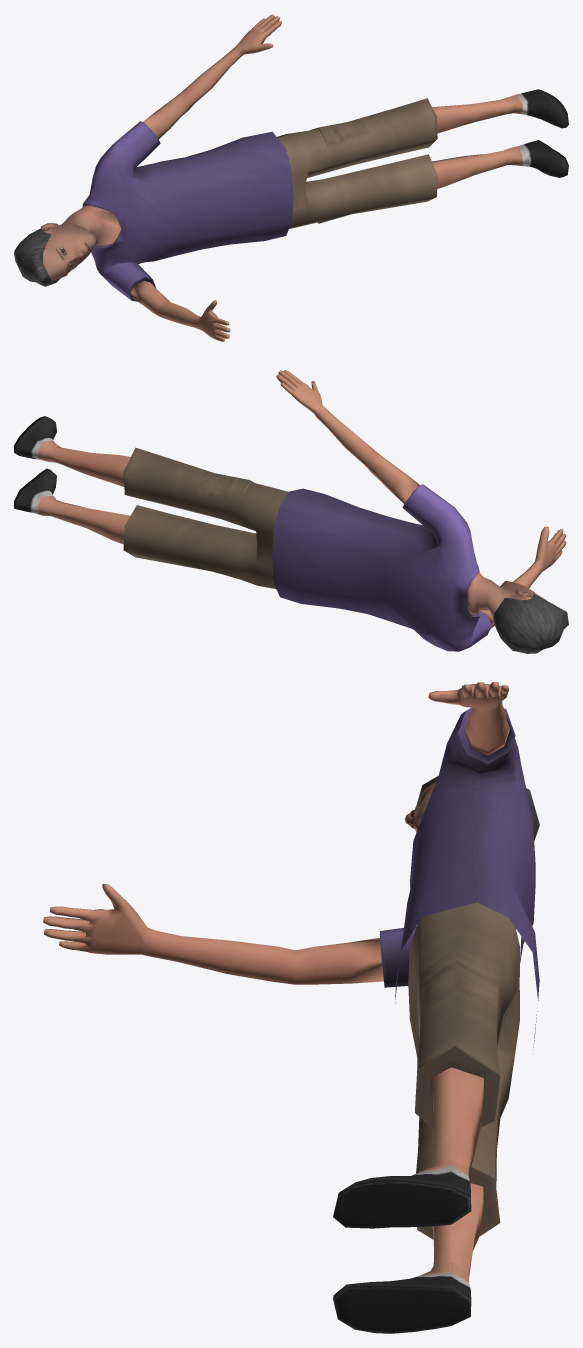
File: man_reaching.glb
3 views of the same model, one above another, from view 1: azimuth 30°, elevation 25°; view 2: azimuth 150°, elevation 25°; view 3: azimuth 270°, elevation 25° (orthographic). The views are drawn at different scales.
Visible parts, largest first — view 1: world; view 2: world; view 3: world.
Boxes of the visible parts, box(x1,y1,x2,y2) form: world: box(14, 14, 568, 341); world: box(14, 370, 568, 653); world: box(43, 682, 539, 1333).
Bounding box in the file's own units: 1.76 × 0.7521 × 0.737.
1 material, 1 textured.
